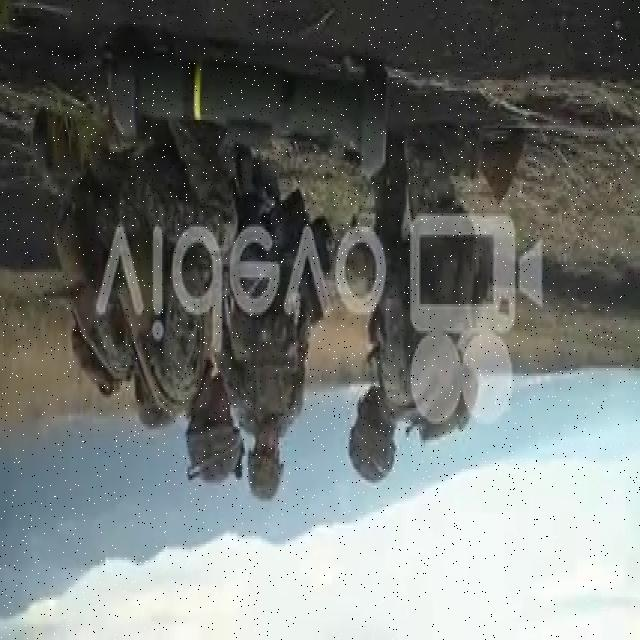bazooka: (103, 27, 401, 182)
